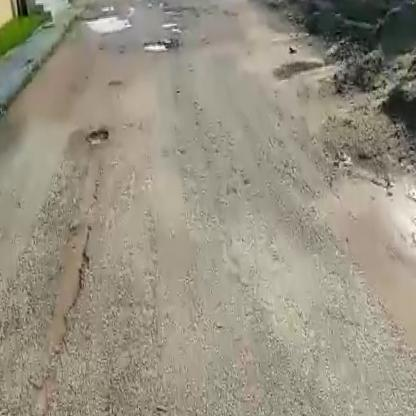pothole: (77, 12, 133, 37), (144, 35, 175, 53), (87, 127, 111, 146)
